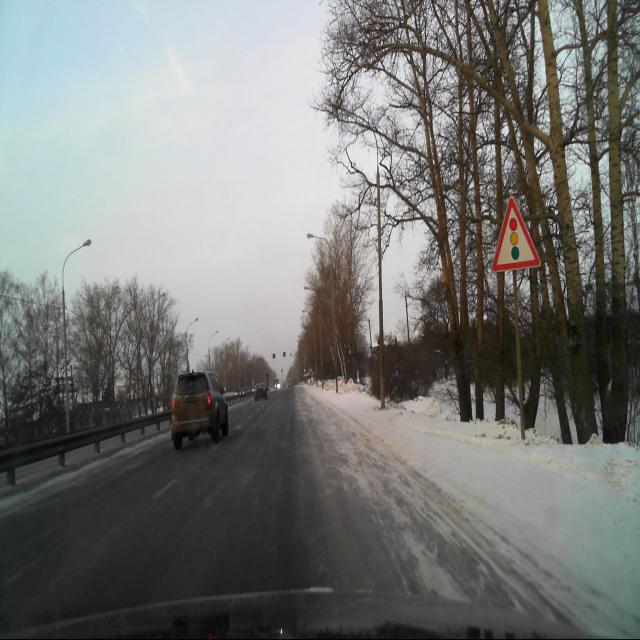object: (513, 271, 525, 439)
road sign: (491, 196, 544, 270)
